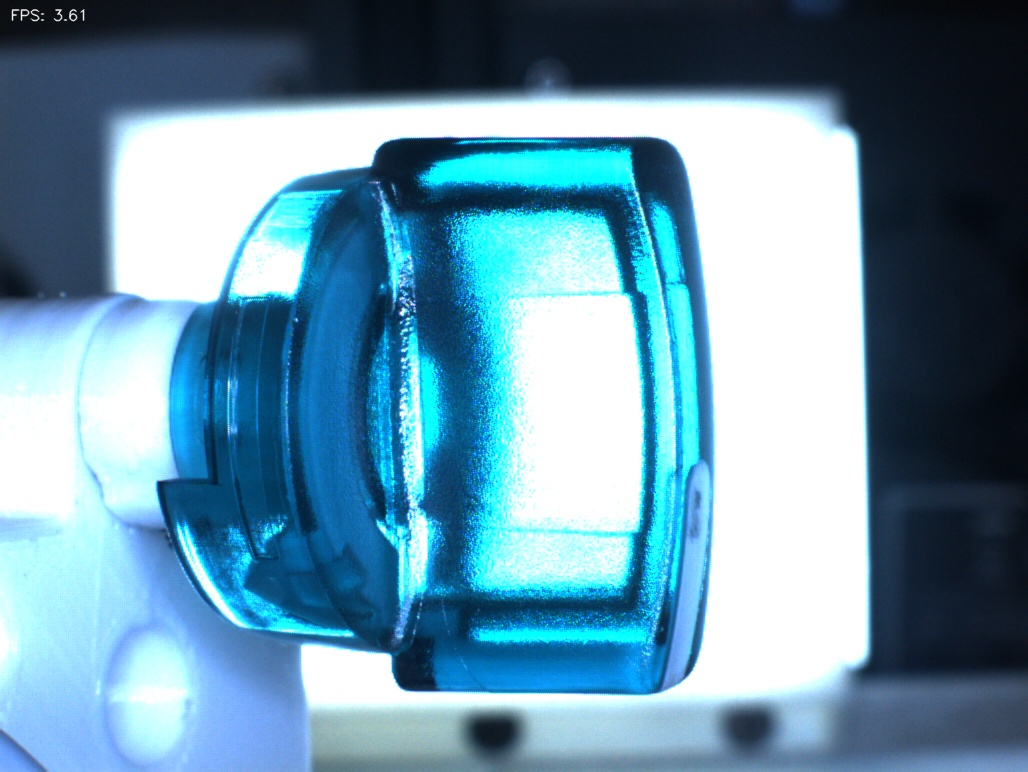PointNoir: (656, 457, 739, 556)
